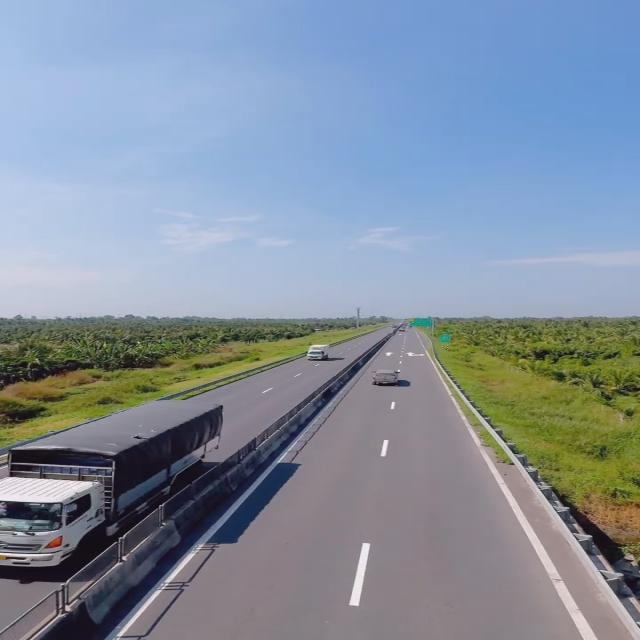car: (370, 367, 407, 389)
truck: (2, 401, 231, 569)
